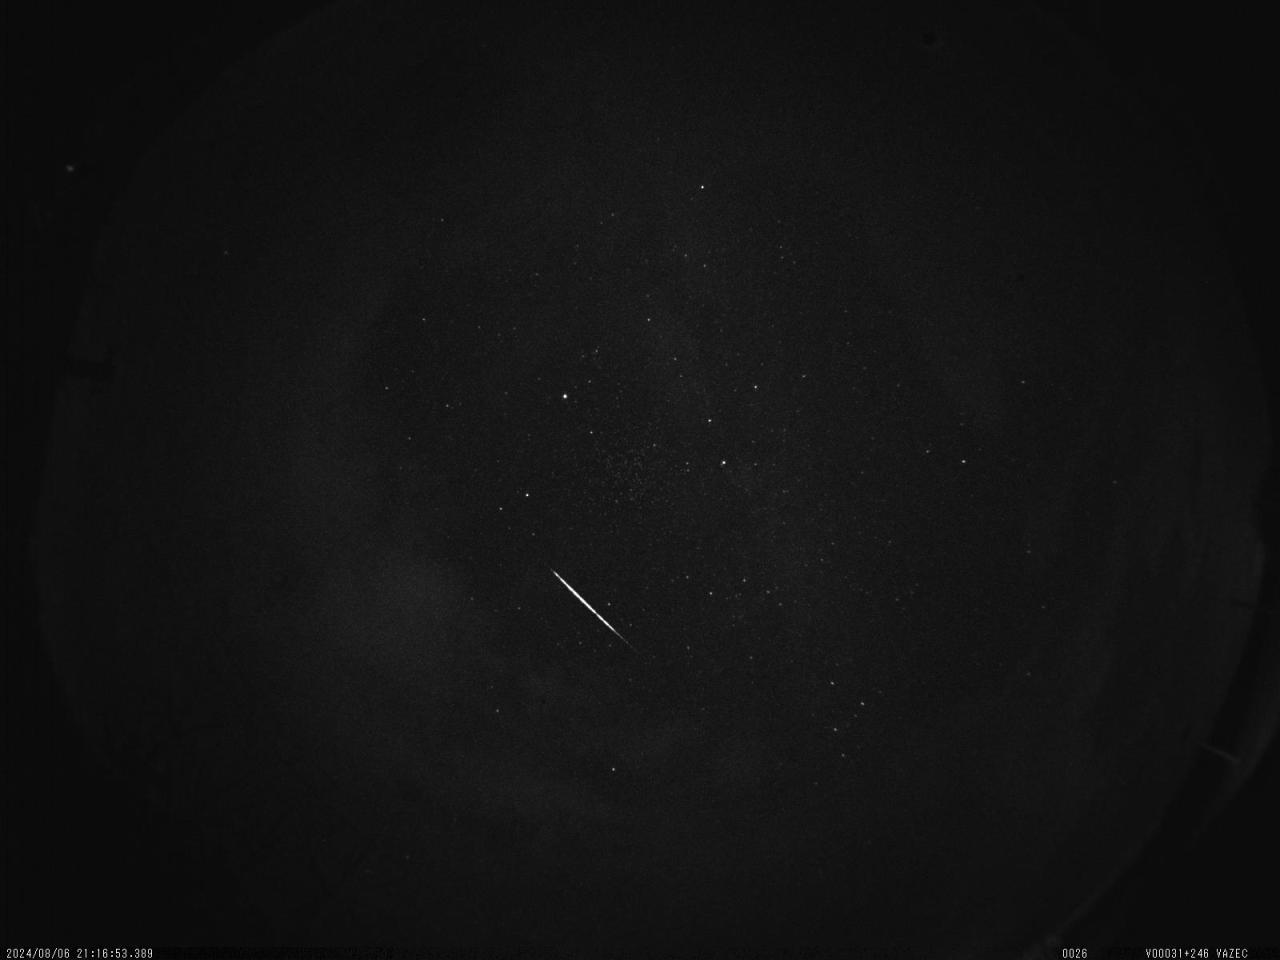Meteor: (550, 567, 636, 653)
